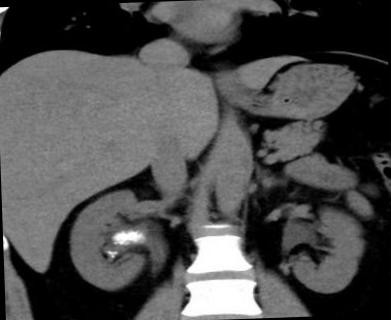Tas_Var: (110, 228, 149, 244), (113, 250, 119, 255), (108, 249, 112, 255), (110, 254, 116, 258), (112, 241, 117, 245), (119, 240, 124, 244), (113, 236, 117, 238)
